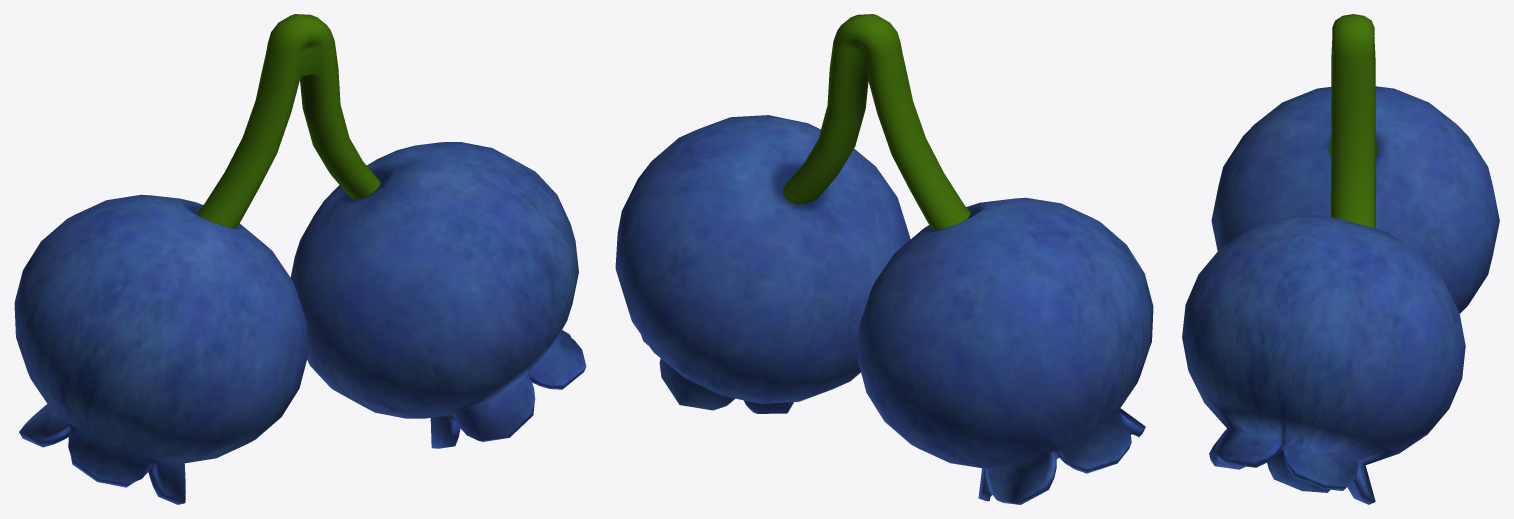
File: Blueberries_blue.fbx
3 renders of one model, left to right at view 1: azimuth 30°, elevation 25°; view 2: azimuth 150°, elevation 25°; view 3: azimuth 270°, elevation 25°, orthographic. The views are drawn at different scales.
Visible parts, largest first — view 1: polySurface23.002; view 2: polySurface23.002; view 3: polySurface23.002.
Boxes of the visible parts, <box> form: polySurface23.002: <box>14,14,586,504</box>; polySurface23.002: <box>615,14,1153,504</box>; polySurface23.002: <box>1182,14,1499,504</box>.
Bounding box in the file's own units: 0.8149 × 0.6705 × 0.4579.
